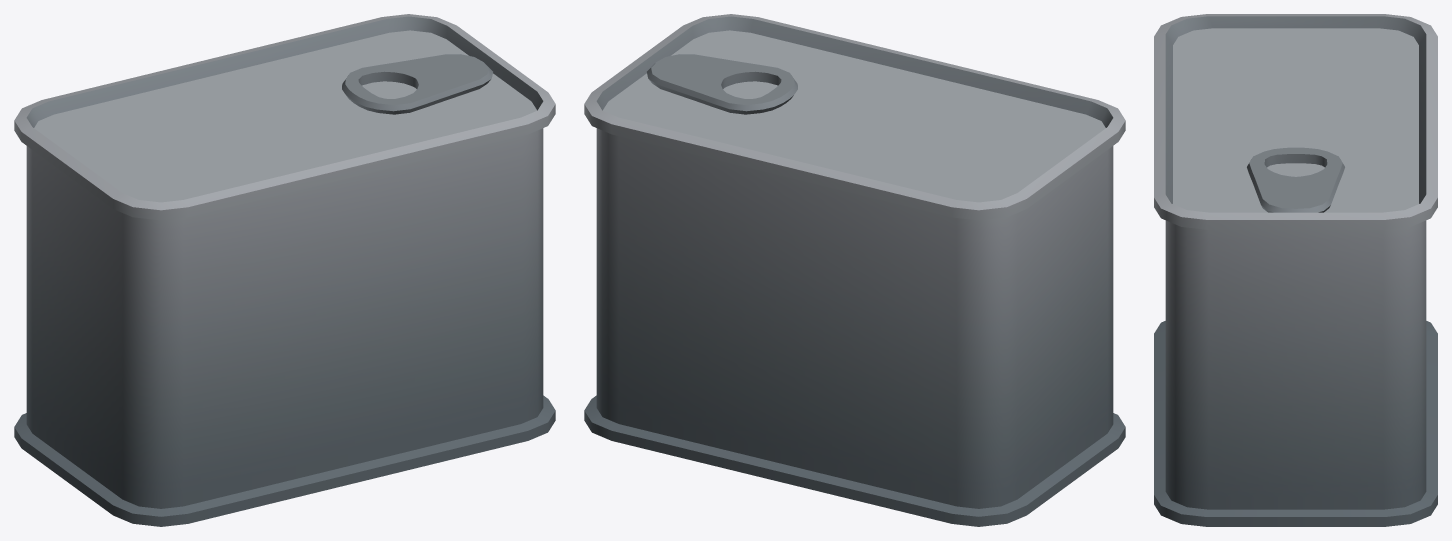
Rendered from Tin_03.1.fbx.
3 views of the same model, side by side, from view 1: azimuth 30°, elevation 25°; view 2: azimuth 150°, elevation 25°; view 3: azimuth 270°, elevation 25° (orthographic). The views are drawn at different scales.
Visible parts, largest first — view 1: Tin_03.1; view 2: Tin_03.1; view 3: Tin_03.1.
Boxes of the visible parts, x1=… form: Tin_03.1: x1=14, y1=14, x2=555, y2=526; Tin_03.1: x1=584, y1=14, x2=1125, y2=526; Tin_03.1: x1=1154, y1=14, x2=1437, y2=526.
Size of the model in its own units: 139 by 81 by 98.28.
